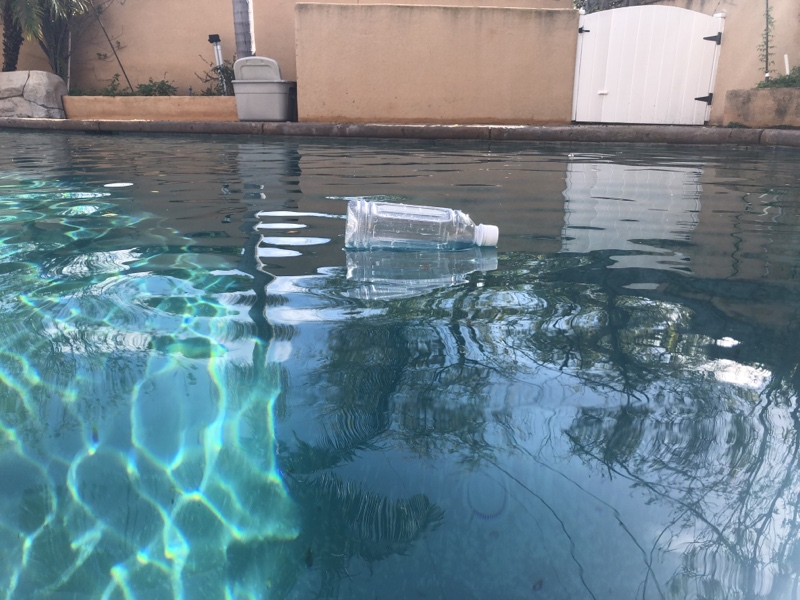Plastic Bottle: (342, 193, 501, 256)
